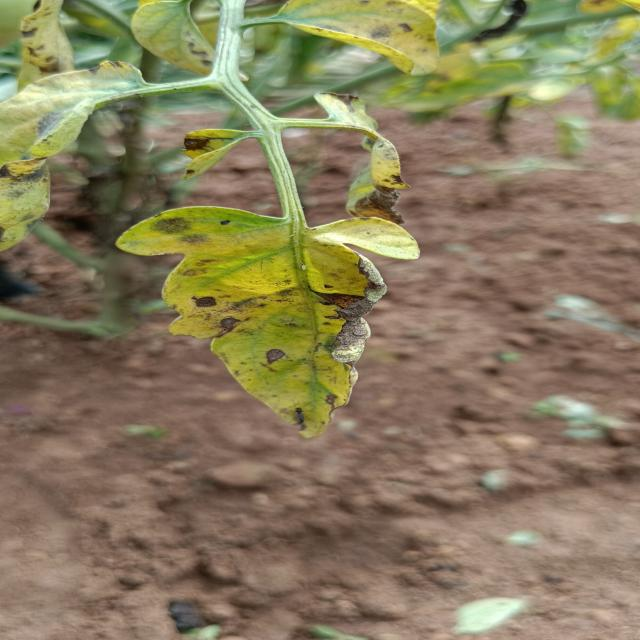tomato_early blight: (112, 196, 423, 440), (314, 88, 454, 226), (0, 57, 161, 169), (273, 0, 456, 77), (0, 0, 105, 125), (178, 124, 272, 170)
